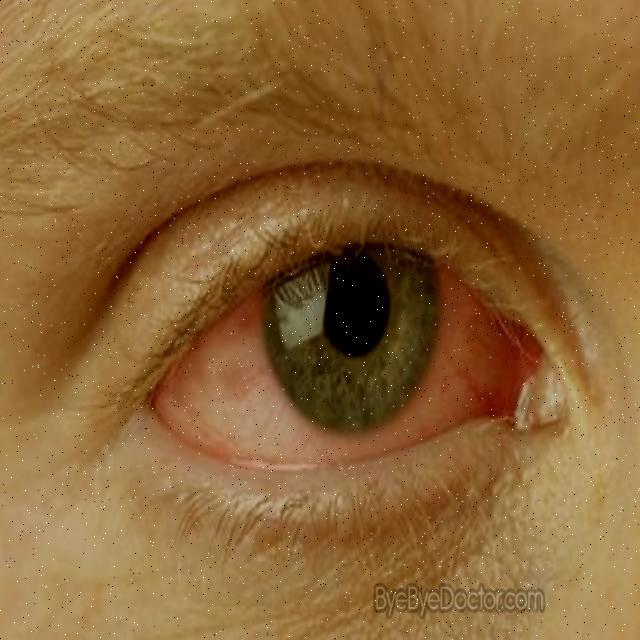Conjunctivitis: (142, 276, 565, 472)
